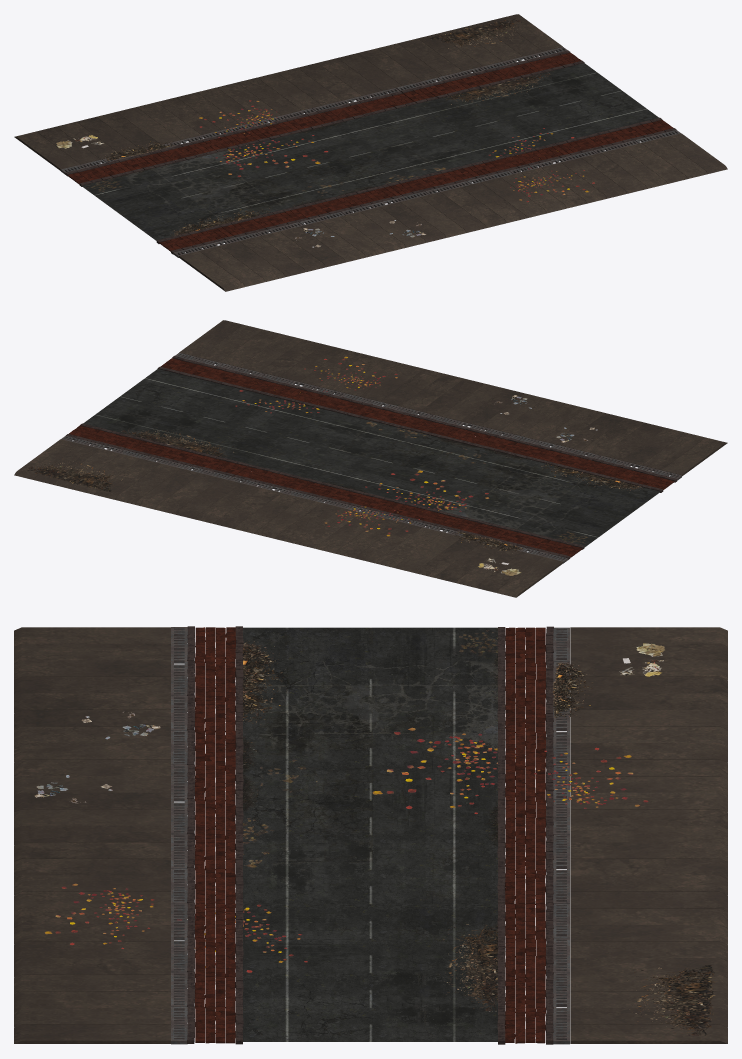
File: ROAD STRAIGHT.fbx
The picture shows the model from 3 angles, top to bottom: view 1: azimuth 30°, elevation 25°; view 2: azimuth 150°, elevation 25°; view 3: azimuth 270°, elevation 25°; orthographic projection. The views are drawn at different scales.
Parts seen in each view (by area): view 1: ROAD STRAIGHT; view 2: ROAD STRAIGHT; view 3: ROAD STRAIGHT.
Part boxes in pixels (<box>): ROAD STRAIGHT: <box>14,14,727,291</box>; ROAD STRAIGHT: <box>14,320,727,597</box>; ROAD STRAIGHT: <box>14,626,727,1044</box>.
Size of the model in its own units: 3656 by 20.62 by 2663.
